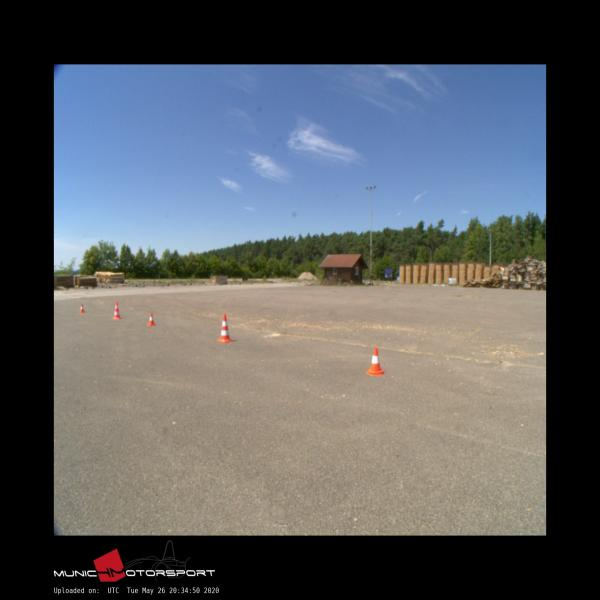large_orange_cone: (218, 314, 232, 341), (112, 302, 121, 319)
orange_cone: (366, 348, 384, 374), (147, 313, 155, 325), (79, 304, 85, 313)
